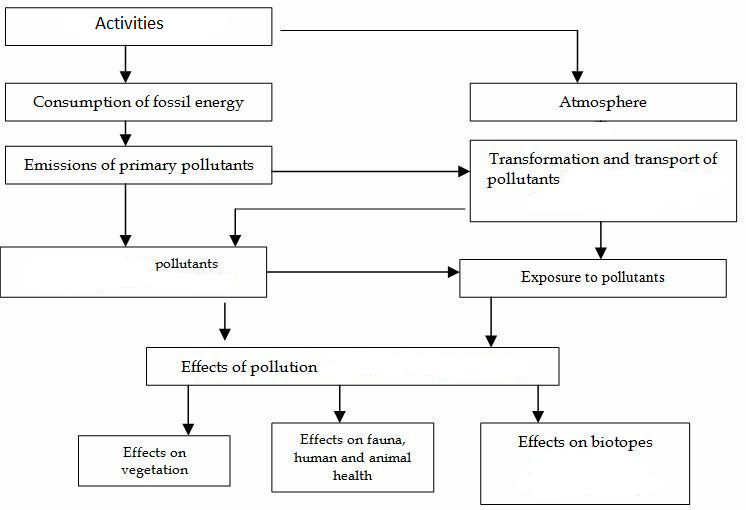arrow: (274, 26, 584, 83), (229, 206, 464, 247), (272, 165, 469, 181), (267, 264, 461, 280), (117, 184, 132, 246), (180, 386, 195, 435), (217, 300, 232, 347), (484, 298, 497, 348), (530, 385, 545, 424), (593, 220, 607, 260), (334, 386, 347, 425), (118, 47, 130, 83), (119, 120, 132, 147)
process: (467, 136, 740, 226), (143, 343, 562, 390), (477, 419, 693, 508), (1, 243, 270, 301), (269, 420, 437, 497), (3, 79, 277, 126), (3, 142, 275, 188), (457, 256, 730, 301), (3, 4, 276, 48), (467, 80, 740, 124), (74, 432, 233, 490)
text: (487, 150, 720, 190), (293, 432, 412, 485), (22, 157, 257, 176), (33, 92, 245, 113), (517, 433, 655, 453), (519, 269, 667, 287), (180, 358, 318, 377), (119, 444, 193, 479), (557, 95, 649, 112), (92, 13, 167, 31), (153, 257, 219, 272)
